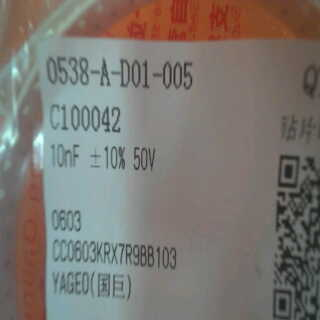10nF: (42, 139, 84, 173)
